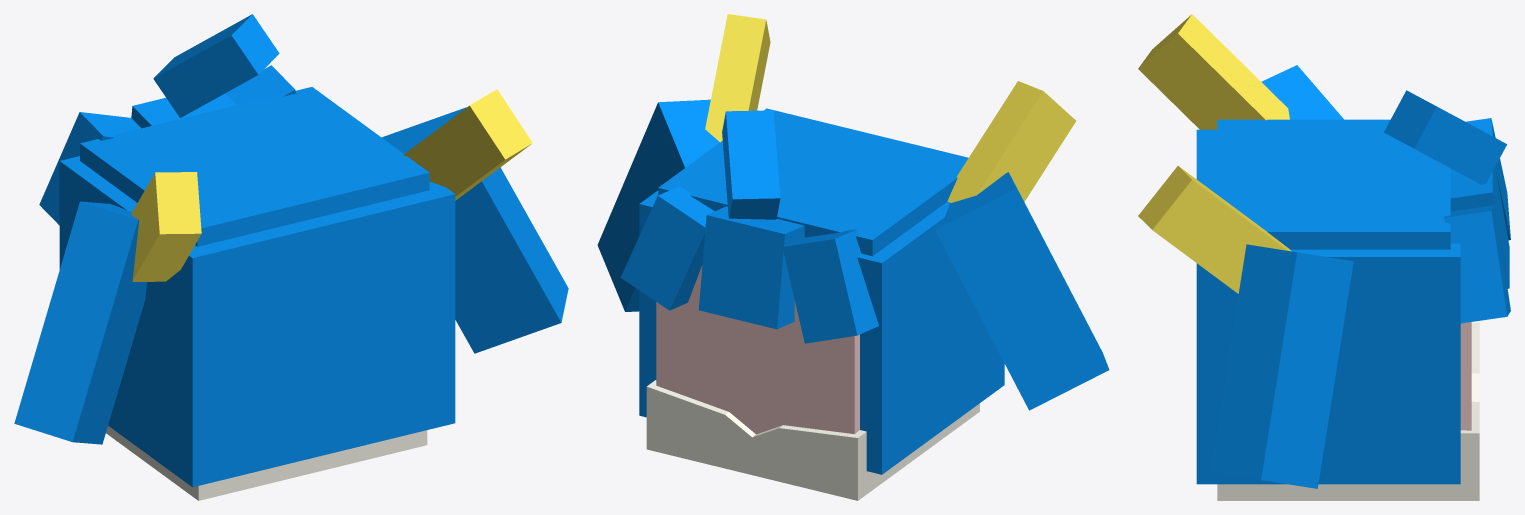
The model's file is PrincessSkin1.fbx.
3 views of the same model, side by side, from view 1: azimuth 30°, elevation 25°; view 2: azimuth 150°, elevation 25°; view 3: azimuth 270°, elevation 25° (orthographic). The views are drawn at different scales.
Parts seen in each view (by area): view 1: Cube.041; view 2: Cube.041; view 3: Cube.041.
Part boxes in pixels (x1,y1,x2,y2): Cube.041: (14,14,568,500); Cube.041: (597,14,1109,500); Cube.041: (1138,14,1510,500).
Bounding box in the file's own units: 516 × 326 × 303.
